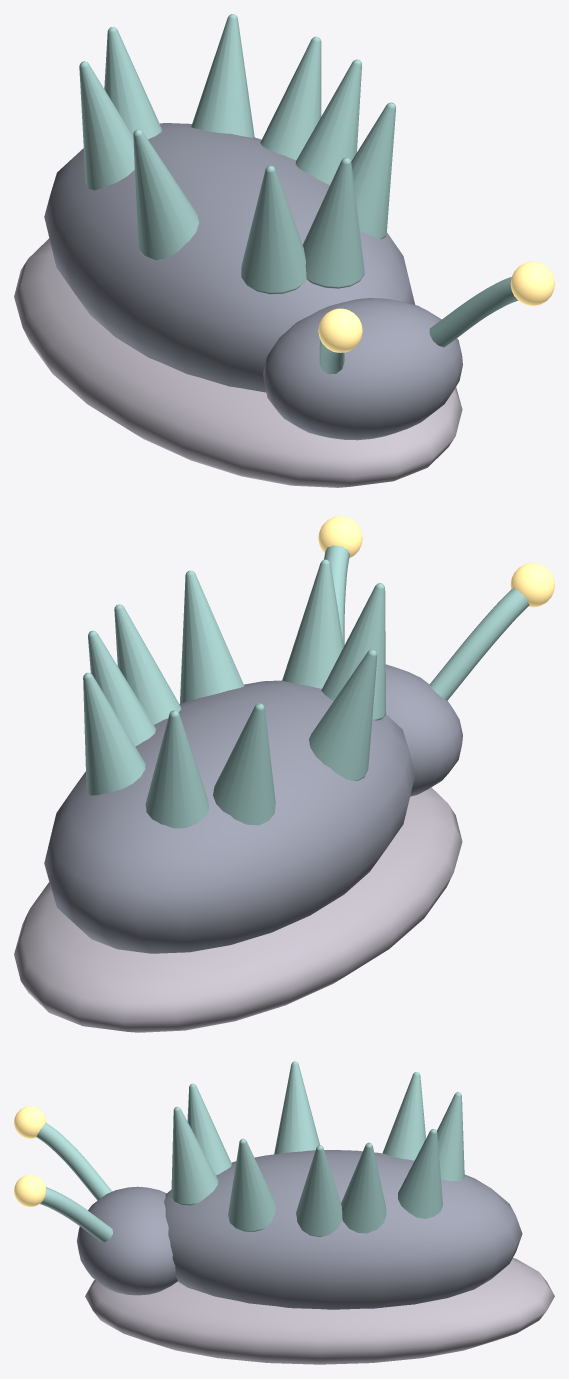
The model's file is bio_slug_21_near.glb.
3 renders of one model, top to bottom at view 1: azimuth 30°, elevation 25°; view 2: azimuth 150°, elevation 25°; view 3: azimuth 270°, elevation 25°, orthographic. The views are drawn at different scales.
Parts seen in each view (by area): view 1: Soft mantle, Respiratory ceras, Mucosal foot, Cranium, Tentacle eye, Sensory tentacle; view 2: Soft mantle, Mucosal foot, Respiratory ceras, Cranium, Sensory tentacle, Tentacle eye; view 3: Soft mantle, Mucosal foot, Respiratory ceras, Cranium, Sensory tentacle, Tentacle eye.
Boxes of the visible parts, x1,y1,x2,y2 form: Soft mantle: [44, 123, 415, 392]; Respiratory ceras: [79, 14, 395, 294]; Mucosal foot: [14, 238, 462, 487]; Cranium: [263, 298, 462, 440]; Tentacle eye: [318, 261, 554, 352]; Sensory tentacle: [319, 277, 518, 374]; Soft mantle: [44, 680, 415, 953]; Mucosal foot: [14, 787, 462, 1032]; Respiratory ceras: [83, 559, 386, 828]; Cranium: [385, 664, 462, 796]; Sensory tentacle: [324, 545, 529, 700]; Tentacle eye: [318, 516, 554, 607]; Soft mantle: [164, 1150, 522, 1309]; Mucosal foot: [85, 1258, 554, 1364]; Respiratory ceras: [171, 1061, 464, 1236]; Cranium: [77, 1186, 177, 1295]; Sensory tentacle: [36, 1123, 112, 1242]; Tentacle eye: [14, 1106, 46, 1206].
Size of the model in its own units: 1.3 by 1.27 by 2.67.
